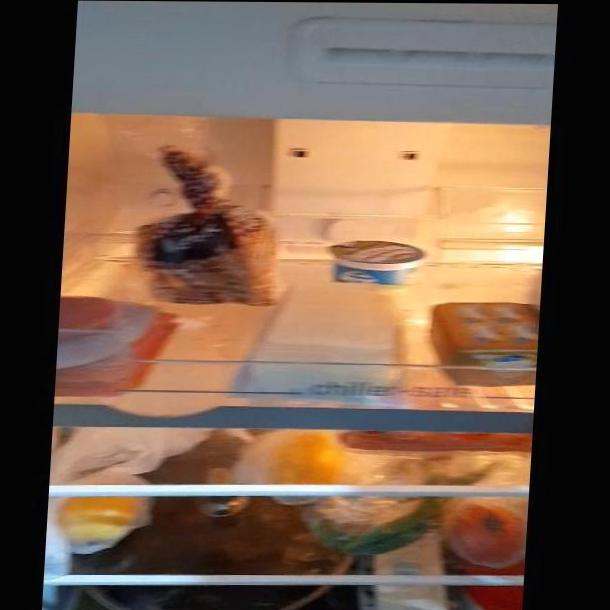bread: (136, 206, 282, 301)
butter: (427, 303, 541, 388)
cheese: (240, 286, 400, 391)
green chilies: (304, 496, 442, 555)
lemon: (260, 429, 354, 504), (55, 490, 151, 556)
salami: (52, 290, 152, 386)
tomato: (442, 499, 532, 571)
yoghurt: (330, 238, 427, 286)
